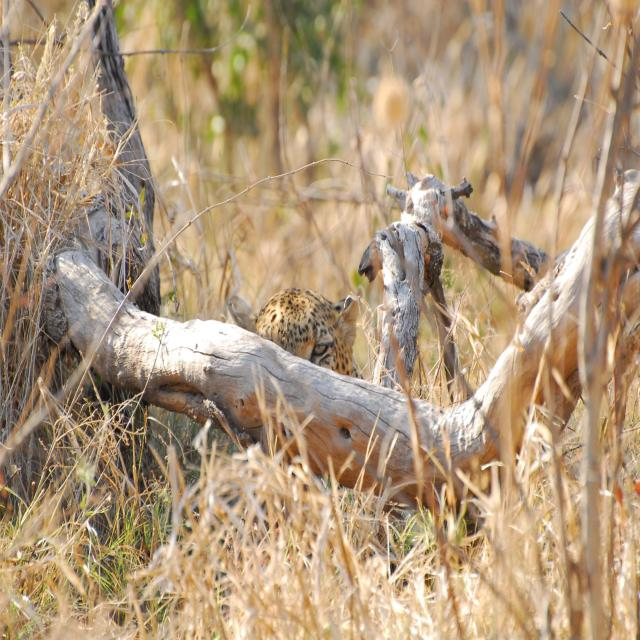Leopard: (220, 290, 364, 378)
